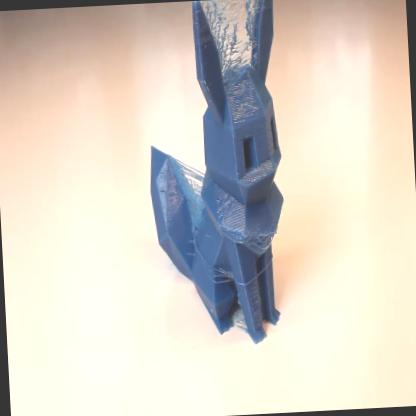fail: (209, 1, 264, 67), (244, 233, 279, 261)
